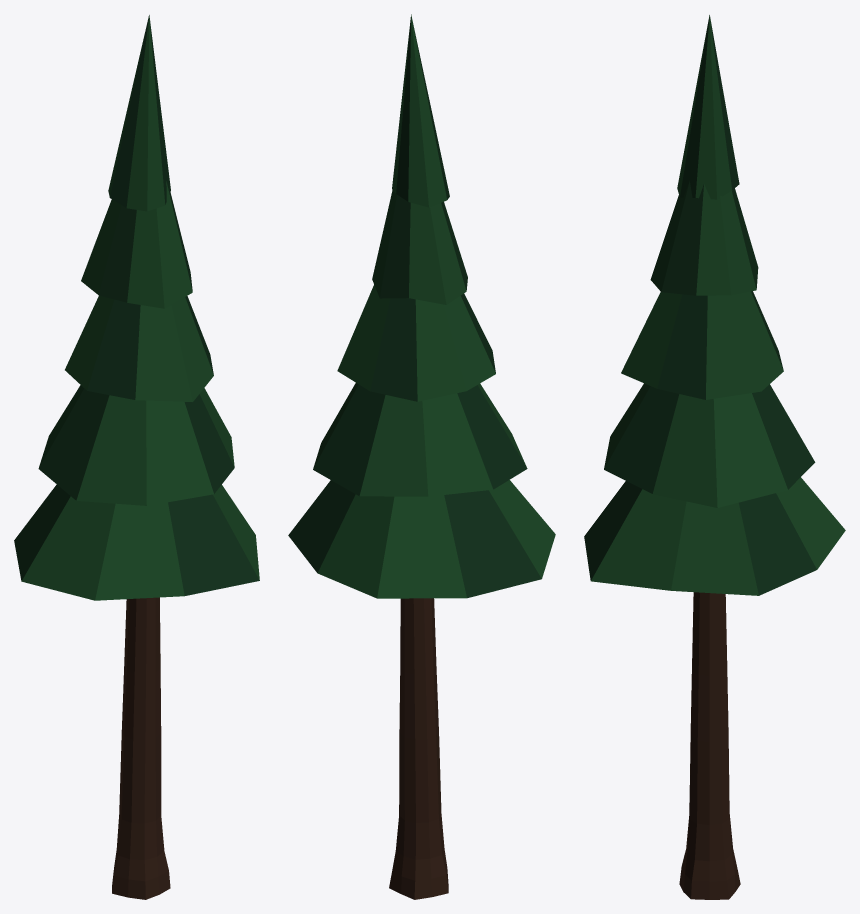
Rendered from GiantFir_B.obj.
3 views of the same model, side by side, from view 1: azimuth 30°, elevation 25°; view 2: azimuth 150°, elevation 25°; view 3: azimuth 270°, elevation 25° (orthographic).
Visible parts, largest first — view 1: GiantFir_B; view 2: GiantFir_B; view 3: GiantFir_B.
Boxes of the visible parts, box(x1,y1,x2,y2) form: GiantFir_B: box(14, 15, 259, 899); GiantFir_B: box(288, 14, 555, 899); GiantFir_B: box(584, 15, 845, 899).
Bounding box in the file's own units: 8.12 × 29.61 × 7.99.
